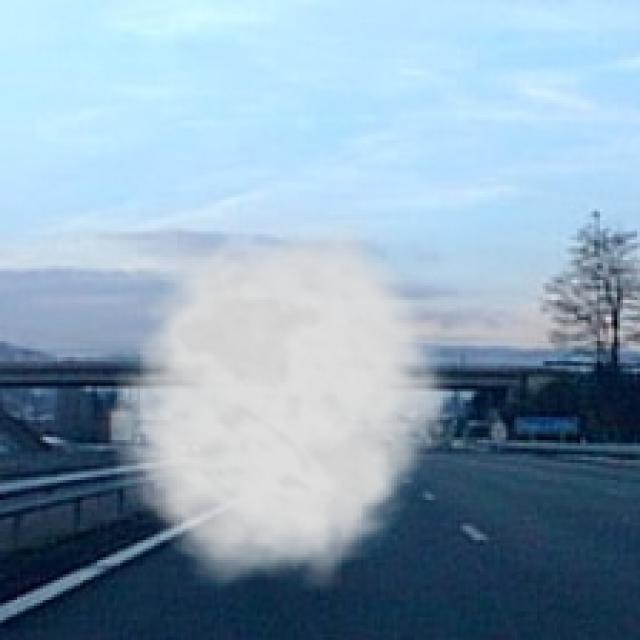smoke: (94, 214, 460, 592)
